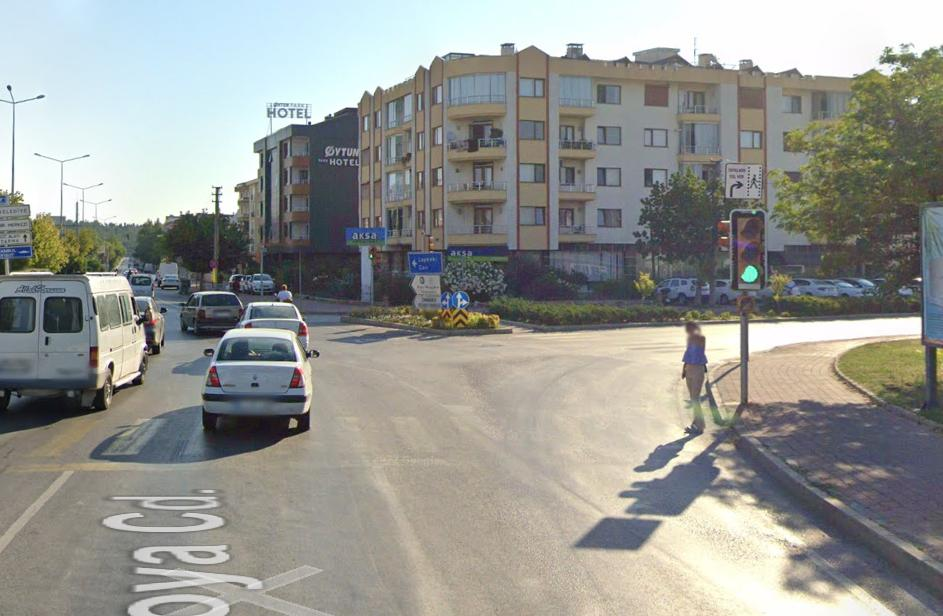greenlight: (732, 213, 764, 288)
